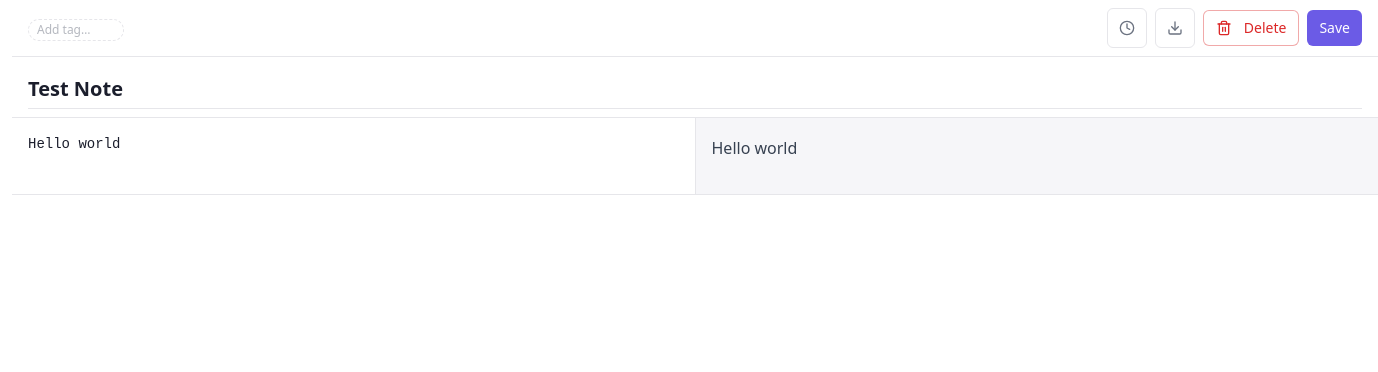
Test: VersionHistoryPanel — opening the panel › closes the panel when the close button is clicked
Check: the field showing "Test Note" is shown, box [28,69,1362,109]
Step 1. Click the button named "version history" → (1127, 28), box [1107,8,1147,48]
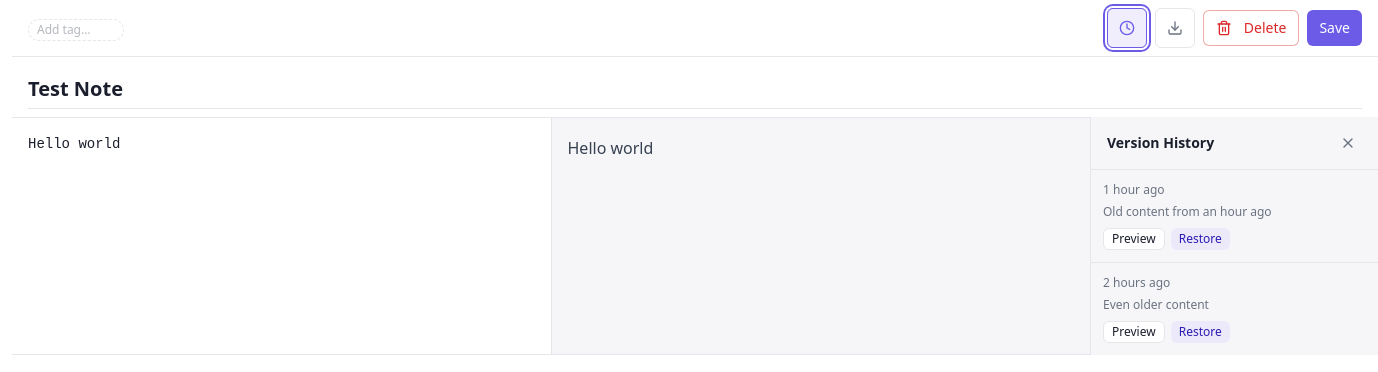
Check: the heading "Version History" is shown, box [1107,133,1214,153]
Step 2. Click the button named "close history panel" → (1348, 143), box [1334,129,1362,157]
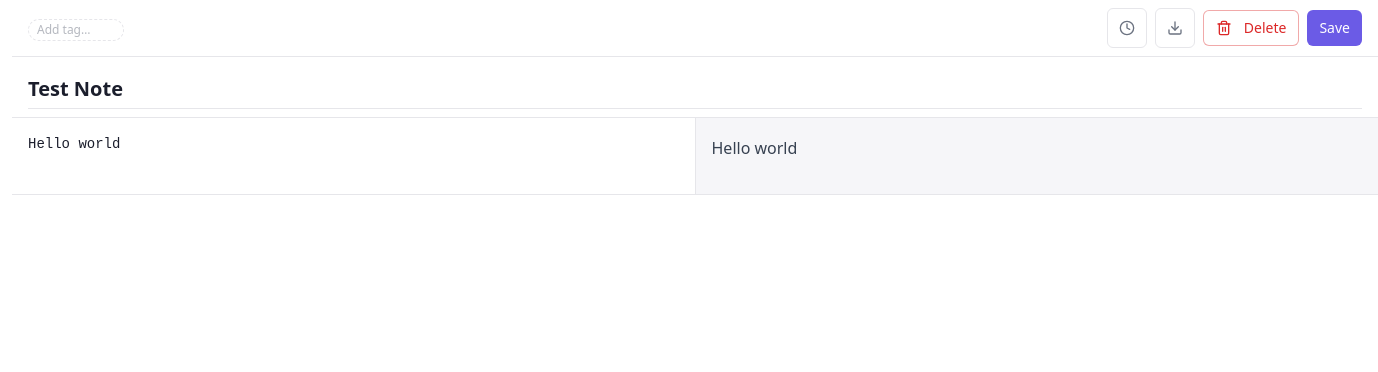
Check: the heading "Version History" is gone
